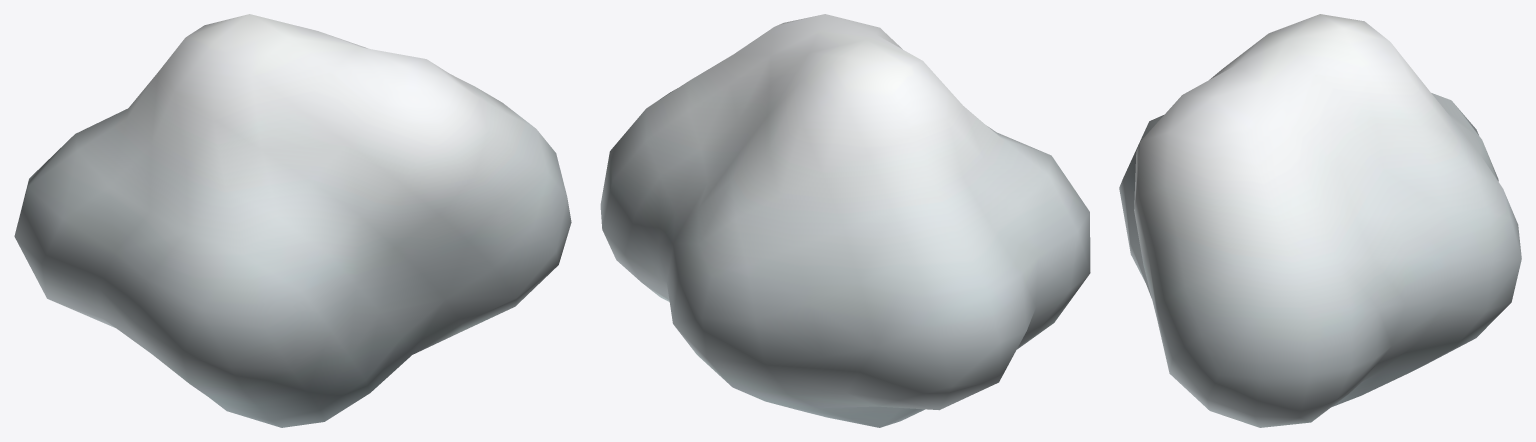
File: cloud-small.glb
The picture shows the model from 3 angles, left to right: view 1: azimuth 30°, elevation 25°; view 2: azimuth 150°, elevation 25°; view 3: azimuth 270°, elevation 25°; orthographic projection. The views are drawn at different scales.
Parts seen in each view (by area): view 1: cloud_small; view 2: cloud_small; view 3: cloud_small.
Boxes of the visible parts, box(x1,y1,x2,y2) form: cloud_small: box(14, 14, 571, 427); cloud_small: box(600, 14, 1090, 427); cloud_small: box(1119, 14, 1521, 427).
Size of the model in its own units: 2.34 by 1.84 by 1.79.
Materials: 1 (1 with a texture image).
